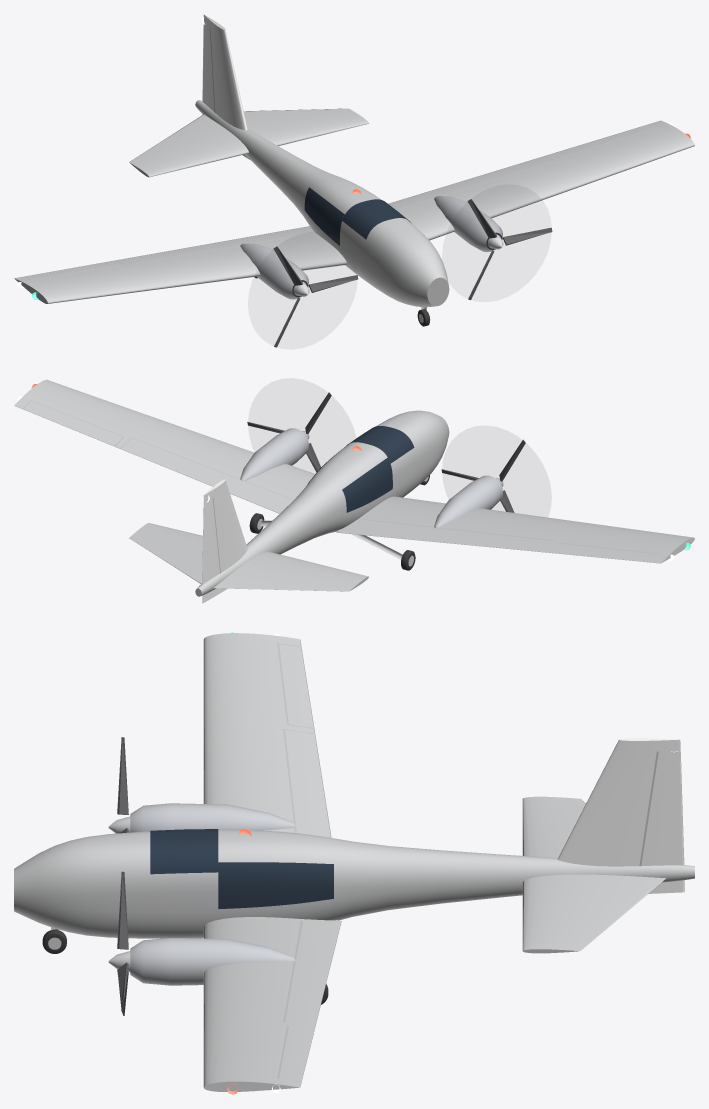
3 renders of one model, top to bottom at view 1: azimuth 30°, elevation 25°; view 2: azimuth 150°, elevation 25°; view 3: azimuth 270°, elevation 25°, orthographic. The views are drawn at different scales.
Parts seen in each view (by area): view 1: airframe, prop (×2); view 2: airframe, prop (×2), gear; view 3: airframe, prop.
Part boxes in pixels (x1,y1,x2,y2): airframe: (14,14,694,307); prop (×2): (273,199,552,347); airframe: (14,379,694,603); prop (×2): (247,392,525,512); gear: (249,475,429,570); airframe: (14,632,694,1094); prop: (117,871,128,1015).
Size of the model in its own units: 13.62 by 3.3 by 8.6.
